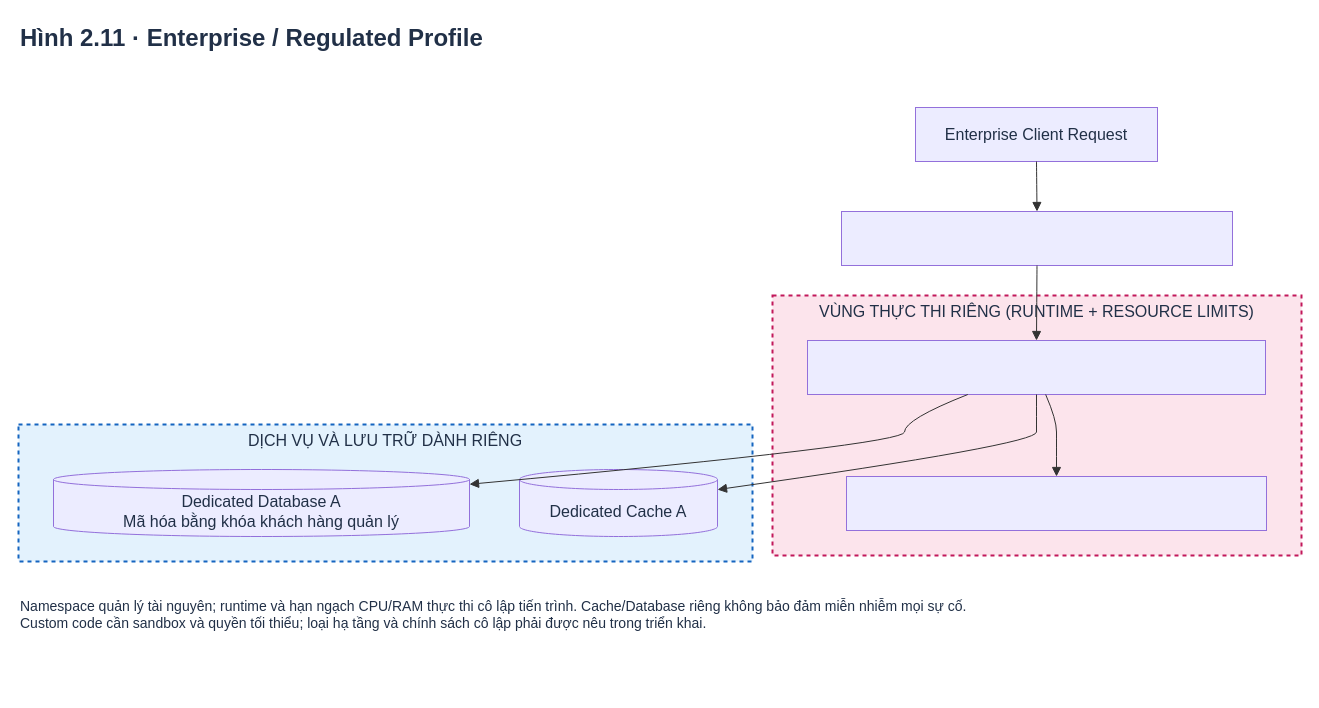
This 1319x708 diagram has some shape labels left out. The centre of each missing label's shape, as x and y in pixels:
"Custom Script Runner Sandbox cô lập mã tùy biến" belongs at point (1056, 503).
"Dedicated API Gateway / Ingress Tên miền khách hàng" belongs at point (1036, 238).
"Dedicated App Instance Hạn ngạch CPU / RAM riêng" belongs at point (1036, 367).
